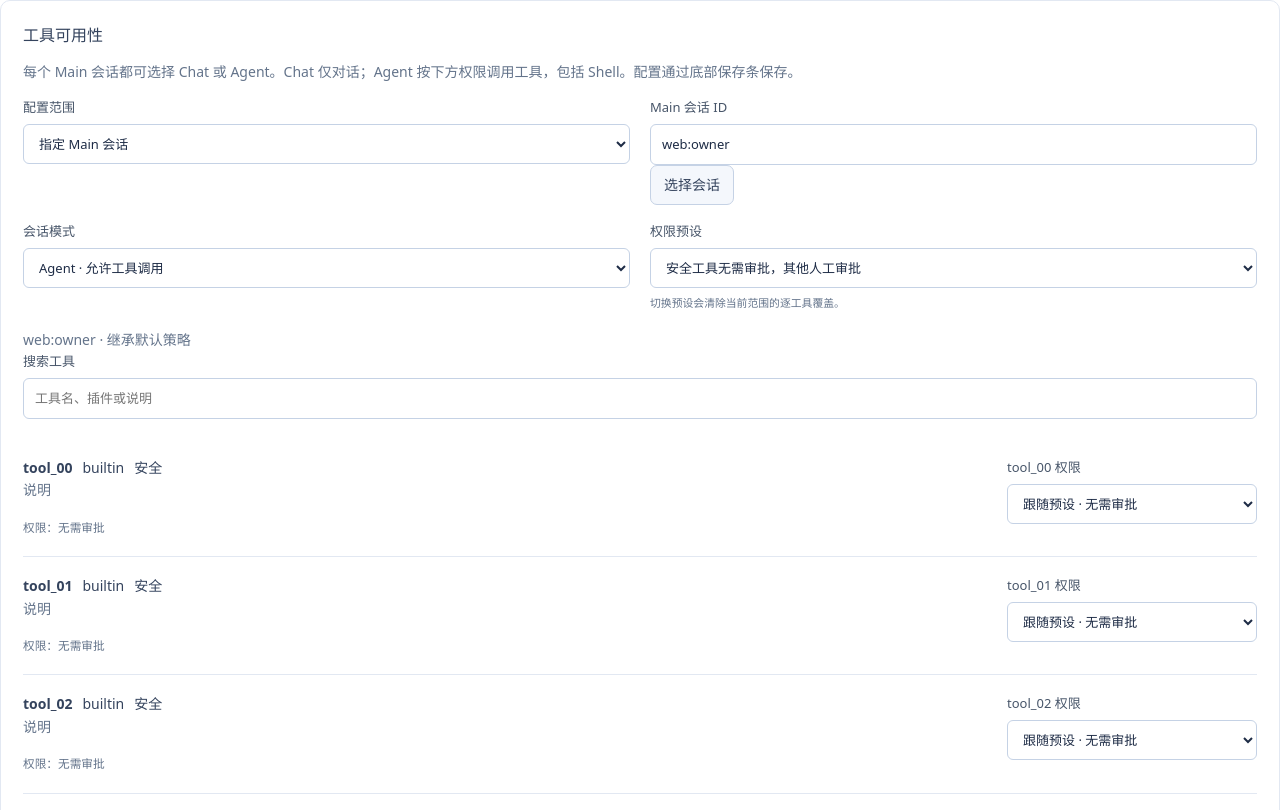
Scenario: paginated lists and web search settings › keeps tool edits across pages and searches the complete catalog
expect the field labelled "tool_20 权限" is not shown: met
Select "禁止使用" in the dropdown labelled "tool_00 权限". click: (1132, 504)
box: [1007,484,1257,524]
(page scrolled)
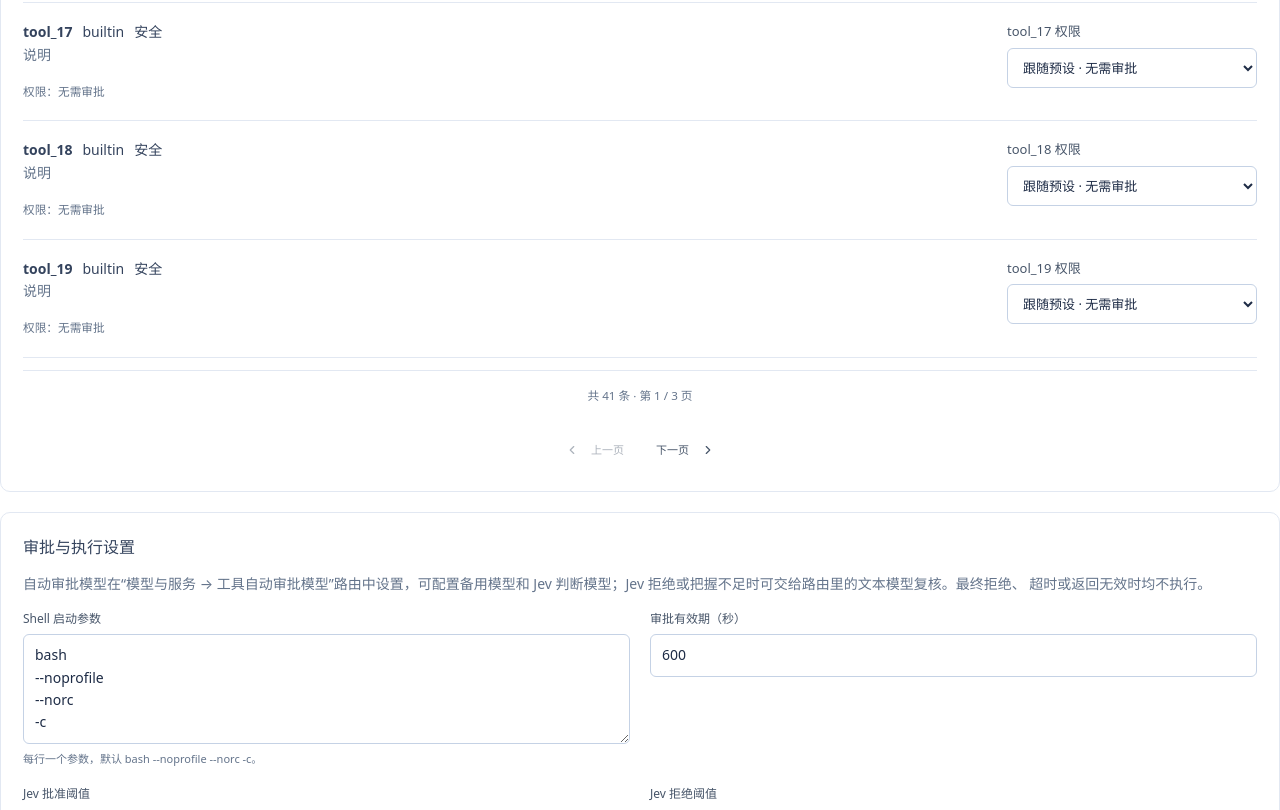
Click the button with aria-label "工具列表下一页". click: (686, 450)
box: [644,431,727,469]
(page scrolled)
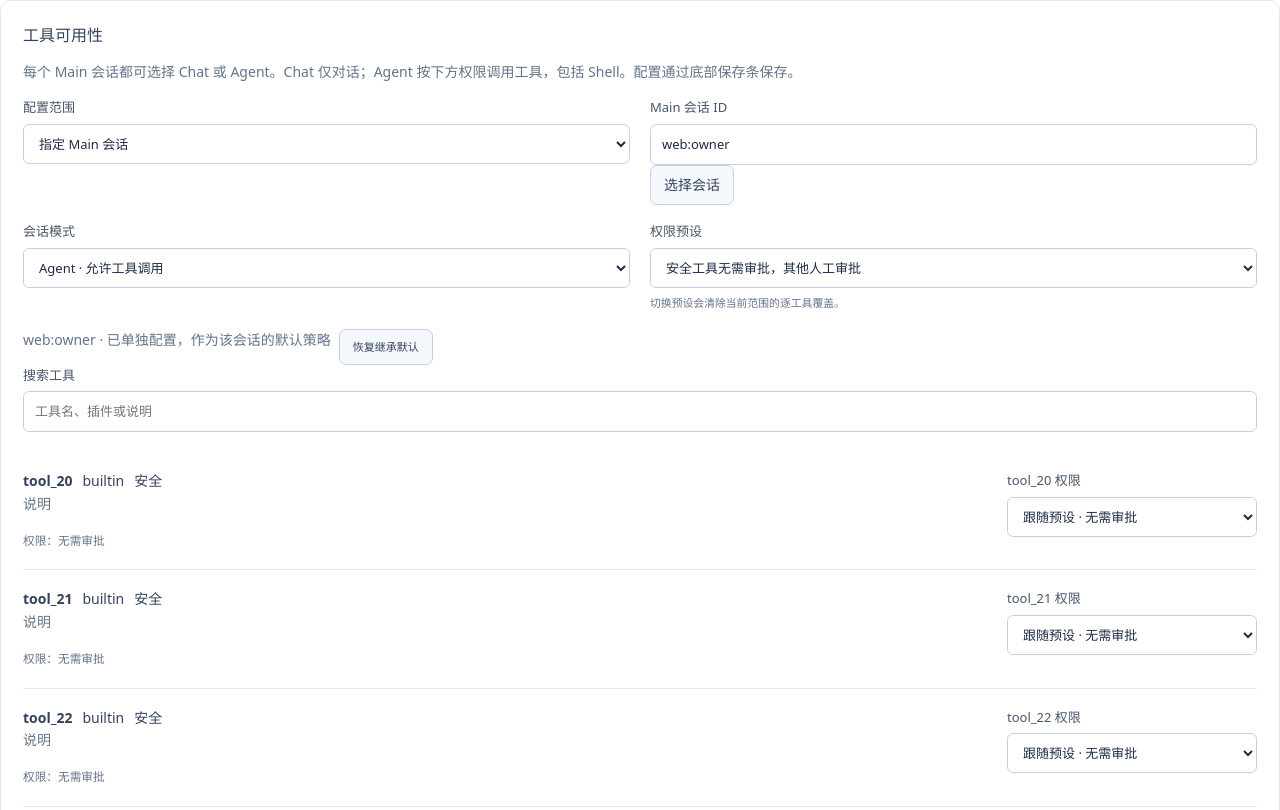
expect the dropdown labelled "tool_20 权限" is shown: met, box [1007,497,1257,537]
Type "tool_40" into the search field labelled "搜索工具". click: (640, 412)
box: [23,392,1257,432]
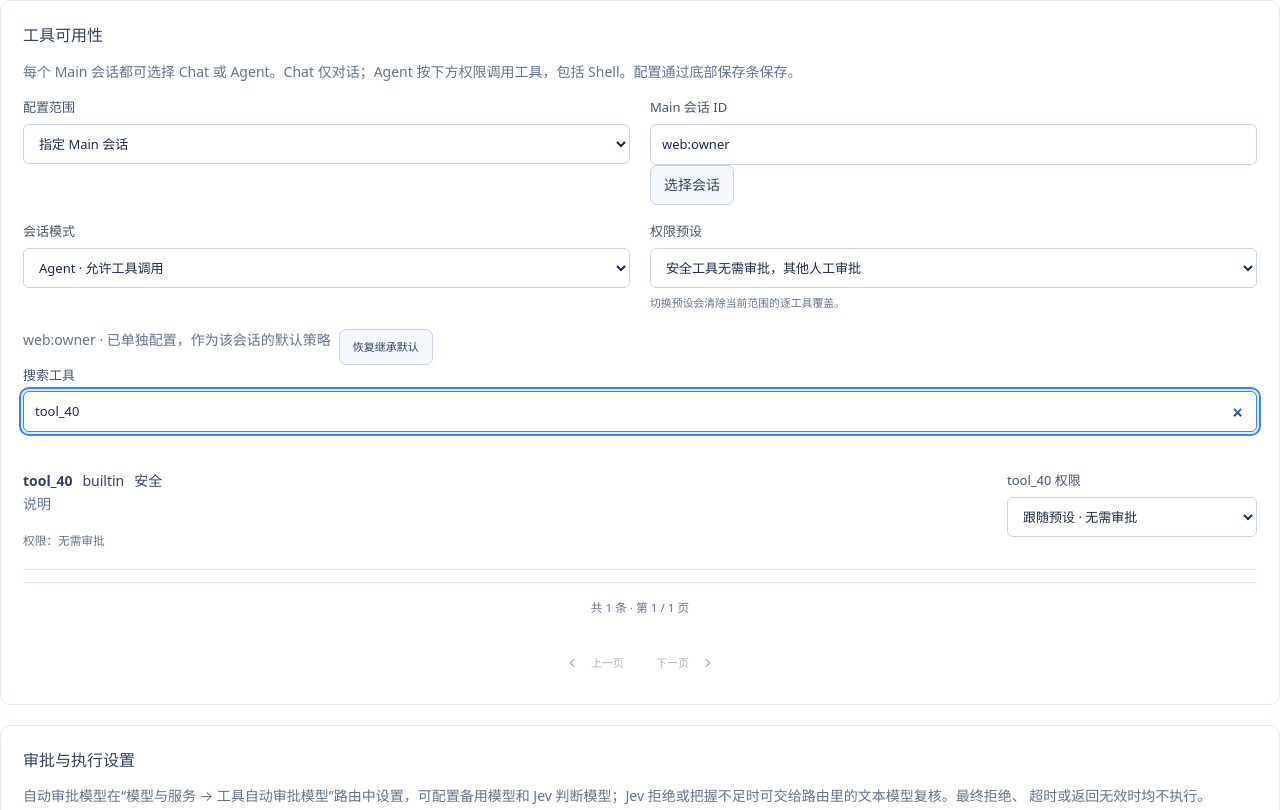
expect the dropdown labelled "tool_40 权限" is shown: met, box [1007,497,1257,537]
expect the label labelled "tool_20 权限" is gone: met
Clear the search field labelled "搜索工具". click: (640, 412)
box: [23,392,1257,432]
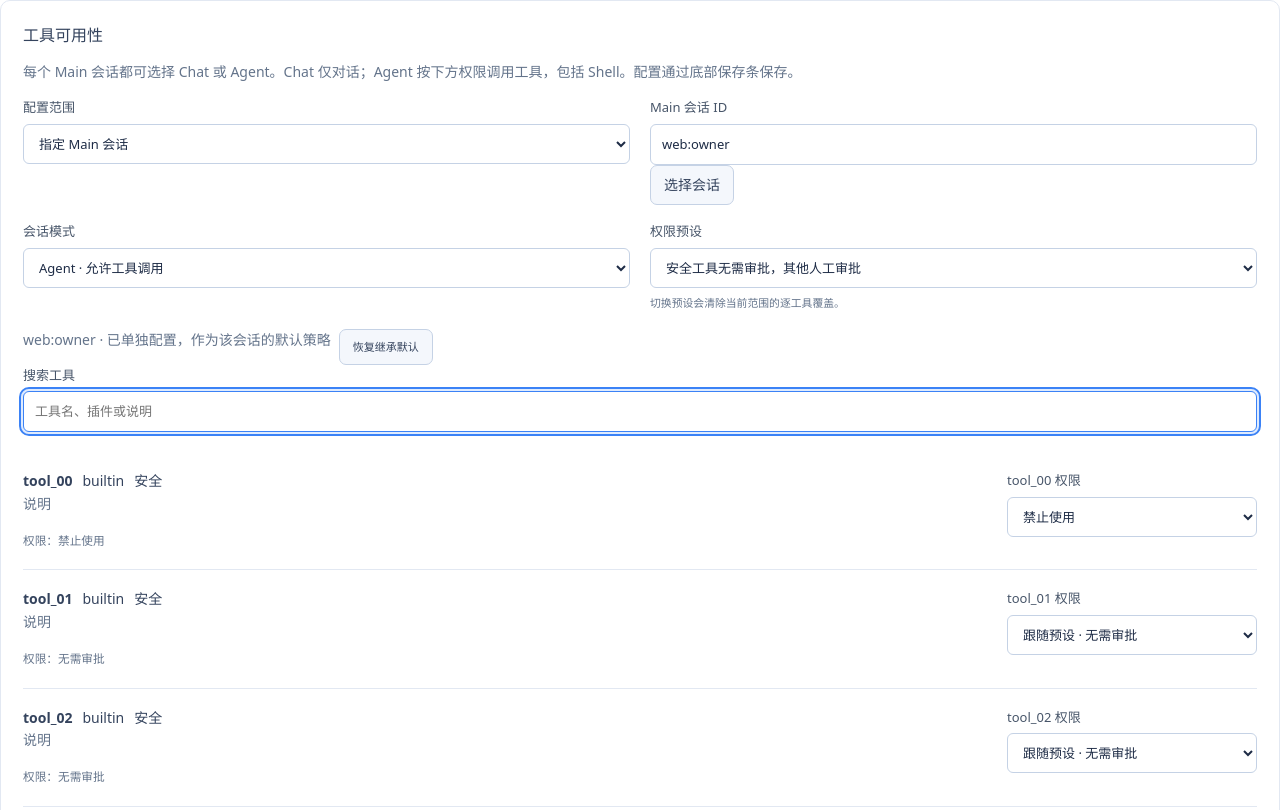
expect the dropdown labelled "tool_00 权限" shows "禁止使用": met, box [1007,497,1257,537]
